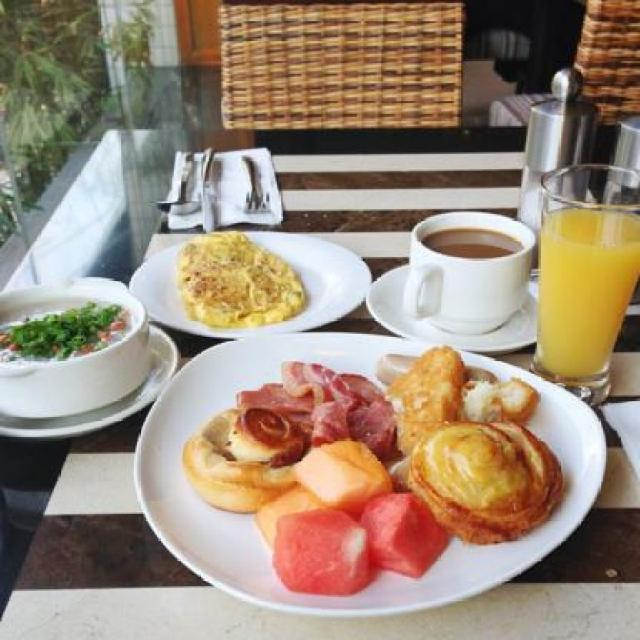Juice: (538, 204, 640, 378)
